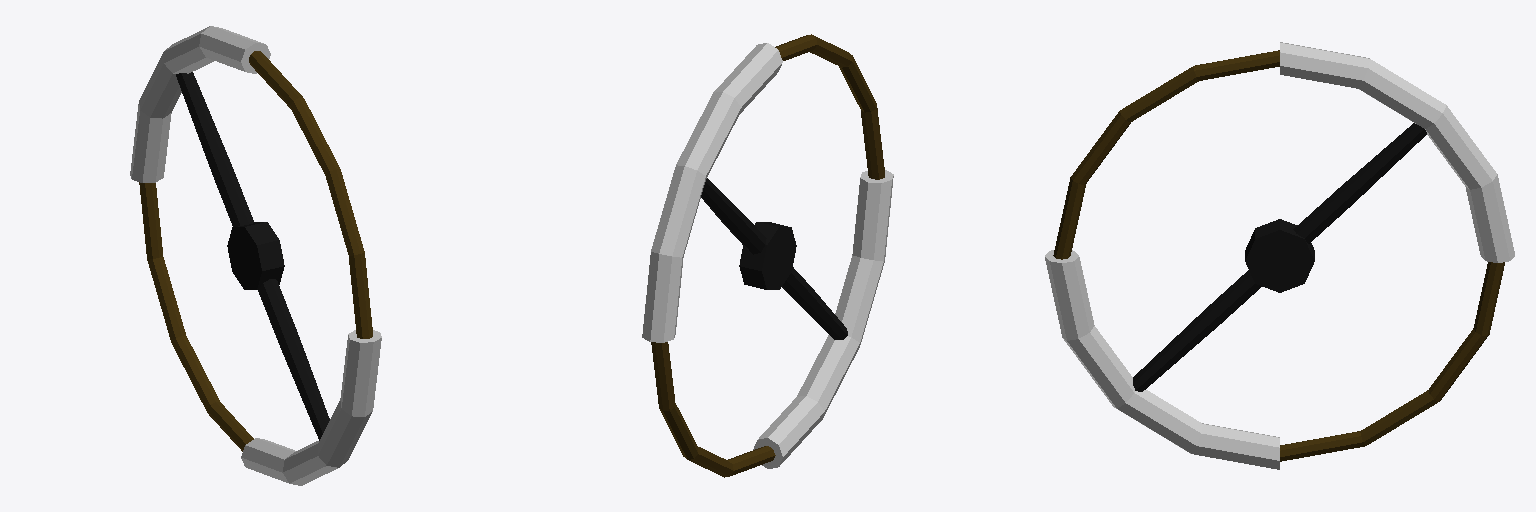
File: Rings.obj
3 renders of one model, left to right at view 1: azimuth 30°, elevation 25°; view 2: azimuth 150°, elevation 25°; view 3: azimuth 270°, elevation 25°, orthographic.
Visible parts, largest first — view 1: Circle, Circle.002, Cylinder.005; view 2: Circle, Circle.002, Cylinder.005; view 3: Circle, Circle.002, Cylinder.005.
Part boxes in pixels (bbox=[...]): Circle: bbox=[130, 26, 381, 485]; Circle.002: bbox=[139, 51, 372, 451]; Cylinder.005: bbox=[176, 72, 329, 440]; Circle: bbox=[642, 43, 893, 468]; Circle.002: bbox=[651, 34, 884, 477]; Cylinder.005: bbox=[701, 178, 847, 339]; Circle: bbox=[1045, 42, 1514, 469]; Circle.002: bbox=[1053, 50, 1504, 461]; Cylinder.005: bbox=[1133, 123, 1426, 391].
Size of the model in its own units: 8 by 108 by 108.